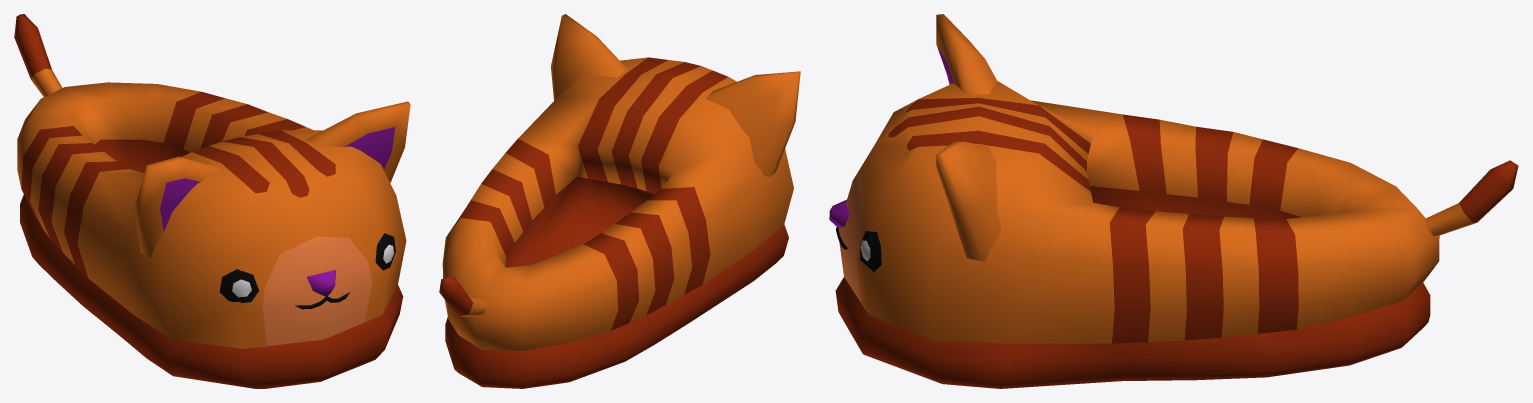
Rendered from kitty_slippers_01.FBX.
The picture shows the model from 3 angles, left to right: view 1: azimuth 30°, elevation 25°; view 2: azimuth 150°, elevation 25°; view 3: azimuth 270°, elevation 25°; orthographic projection. The views are drawn at different scales.
Visible parts, largest first — view 1: kitty_slippers_01; view 2: kitty_slippers_01; view 3: kitty_slippers_01.
Part boxes in pixels (x1=…): kitty_slippers_01: x1=14, y1=14, x2=410, y2=388; kitty_slippers_01: x1=439, y1=14, x2=800, y2=388; kitty_slippers_01: x1=829, y1=14, x2=1518, y2=388.
Size of the model in its own units: 673 by 541 by 1366.
